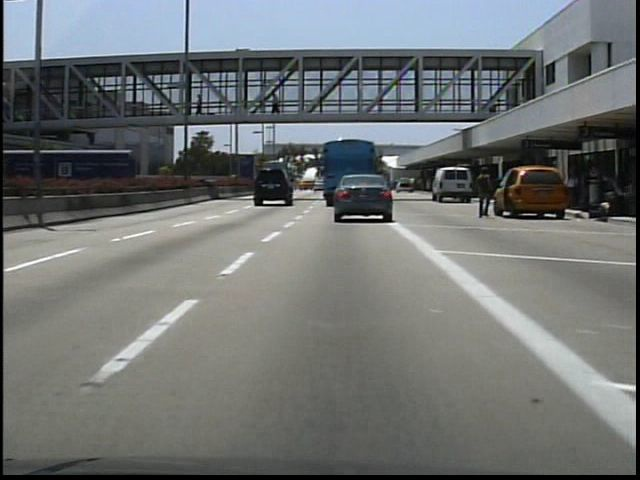person: (472, 162, 497, 222), (268, 91, 283, 120), (193, 91, 208, 118)
